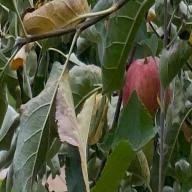Apples: (122, 56, 170, 117)
